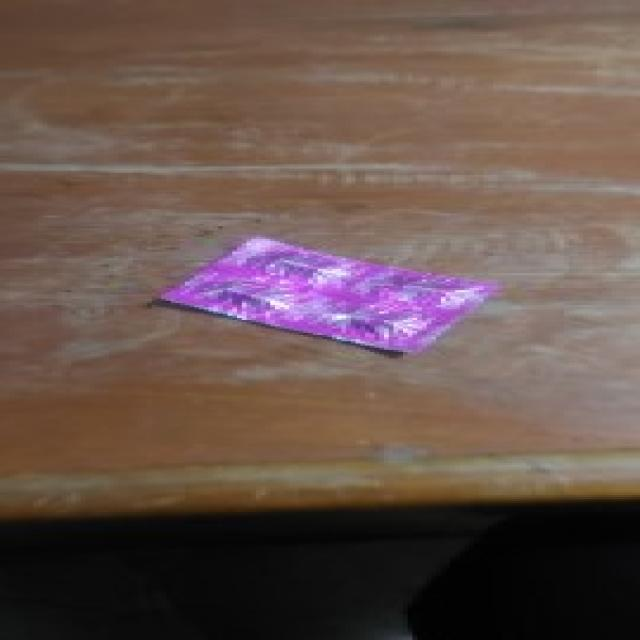Cacat: (154, 233, 500, 359)
